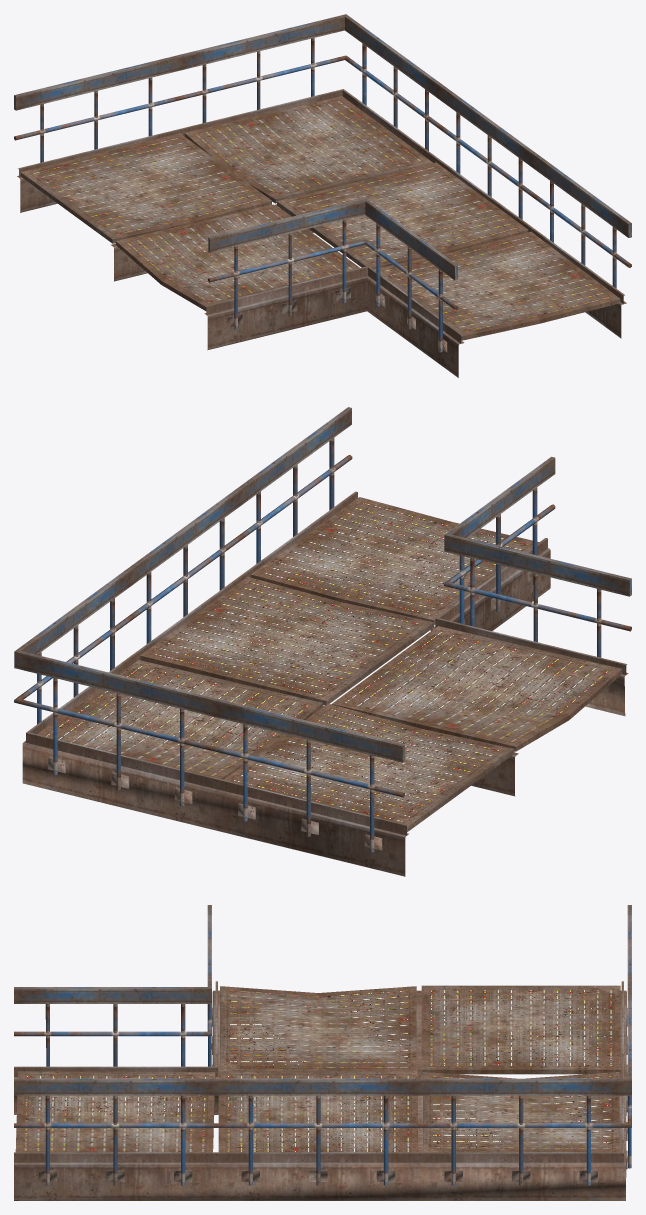
The model's file is walkway_a_300x300_crn_c.glb.
3 views of the same model, one above another, from view 1: azimuth 30°, elevation 25°; view 2: azimuth 150°, elevation 25°; view 3: azimuth 270°, elevation 25° (orthographic). The views are drawn at different scales.
Parts seen in each view (by area): view 1: walkway_a_300x300_crn_c; view 2: walkway_a_300x300_crn_c; view 3: walkway_a_300x300_crn_c.
Boxes of the visible parts, left/top/right/bottom form: walkway_a_300x300_crn_c: left=14, top=14, right=631, bottom=377; walkway_a_300x300_crn_c: left=14, top=407, right=631, bottom=876; walkway_a_300x300_crn_c: left=14, top=905, right=631, bottom=1200.
Size of the model in its own units: 6.14 by 2 by 9.14.
Materials: 1 (1 with a texture image).
